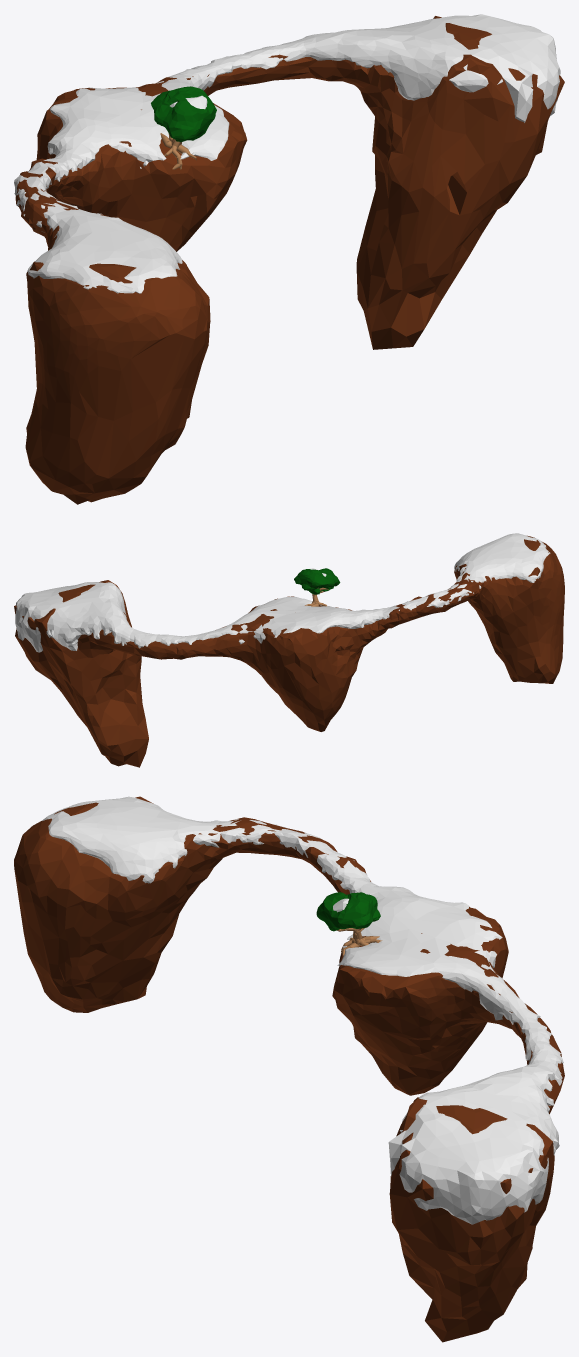
The model's file is Tre_Isola3.fbx.
The picture shows the model from 3 angles, top to bottom: view 1: azimuth 30°, elevation 25°; view 2: azimuth 150°, elevation 25°; view 3: azimuth 270°, elevation 25°; orthographic projection. The views are drawn at different scales.
Parts seen in each view (by area): view 1: Plane.033, Plane.034, Mball.001; view 2: Plane.033, Plane.034, Mball.001; view 3: Plane.033, Plane.034, Mball.001.
Part boxes in pixels (x1=…): Plane.033: x1=15, y1=16, x2=564, y2=504; Plane.034: x1=14, y1=14, x2=560, y2=293; Mball.001: x1=151, y1=86, x2=216, y2=142; Plane.033: x1=14, y1=535, x2=564, y2=767; Plane.034: x1=15, y1=533, x2=550, y2=652; Mball.001: x1=294, y1=568, x2=340, y2=594; Plane.033: x1=14, y1=796, x2=564, y2=1342; Plane.034: x1=42, y1=796, x2=563, y2=1224; Mball.001: x1=316, y1=892, x2=380, y2=931.
Bounding box in the file's own units: 336 × 160 × 246.
